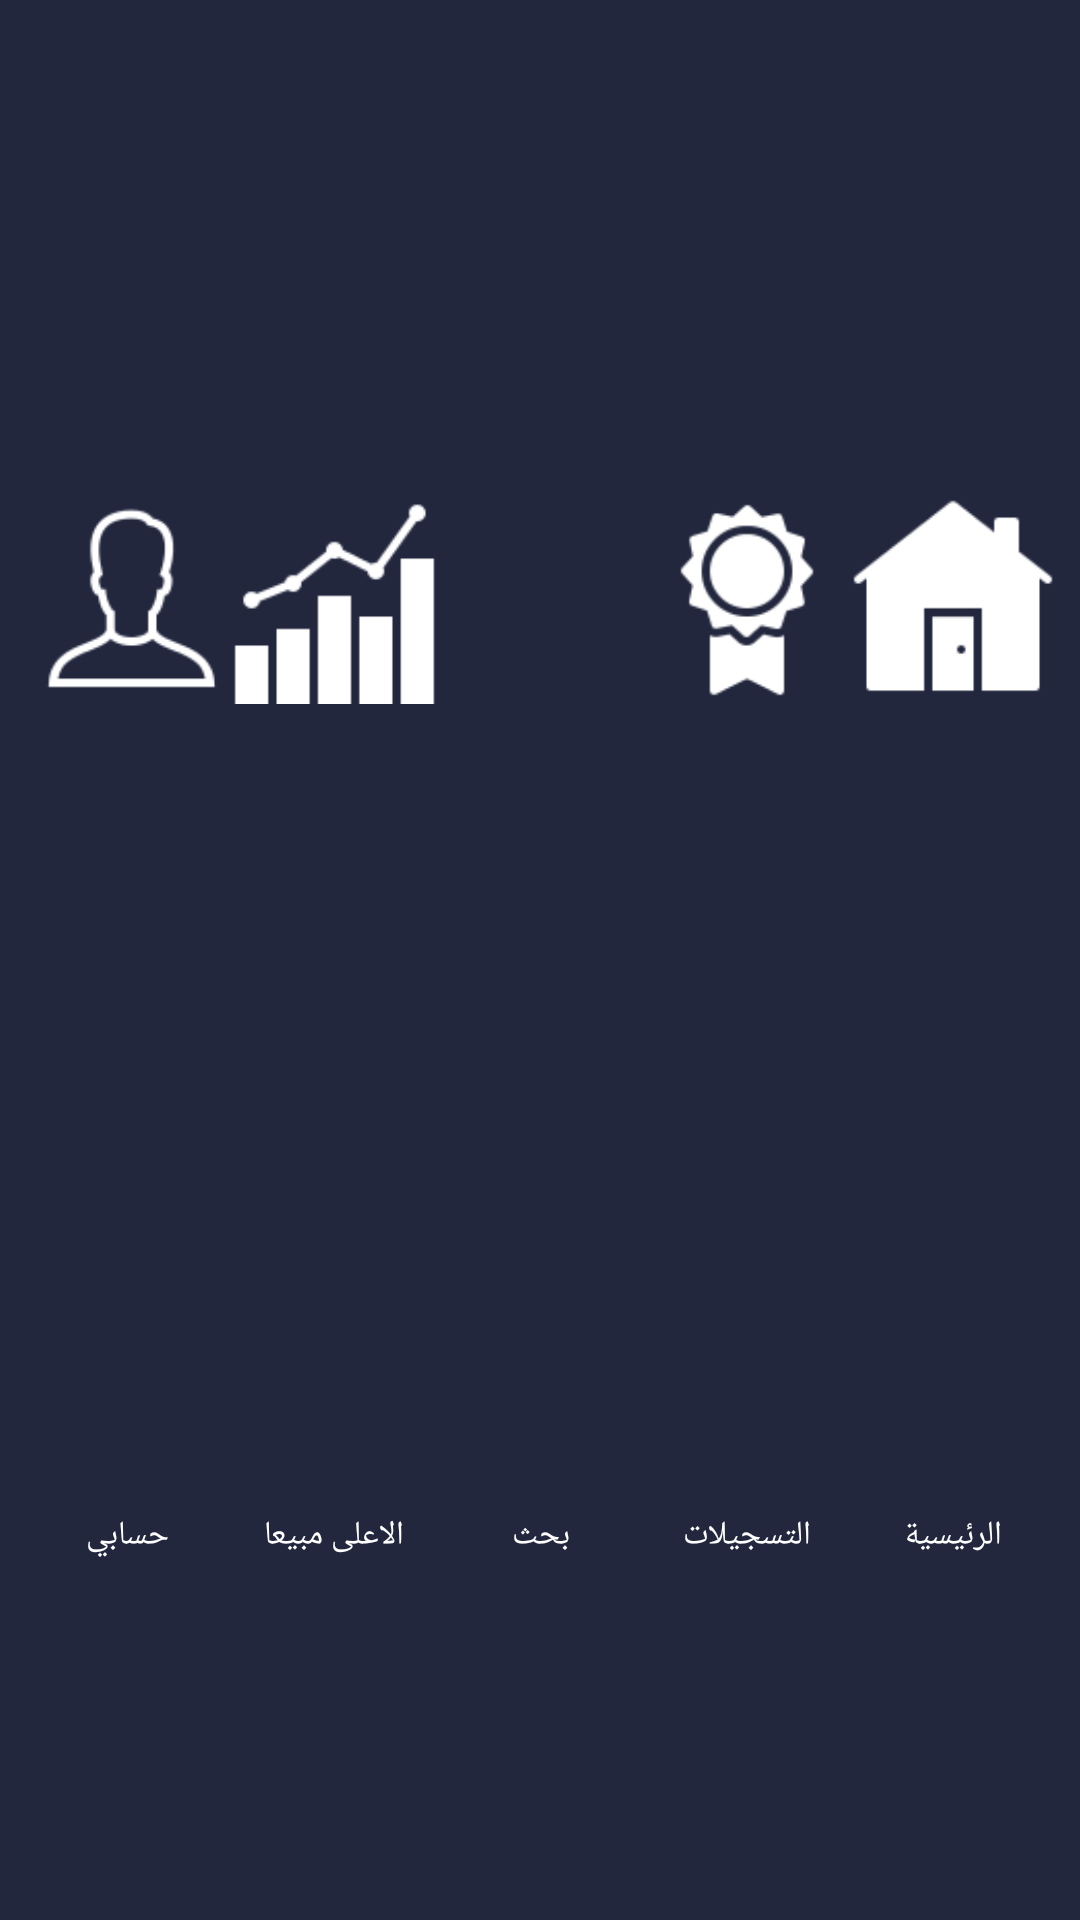

Icons on this 1080 x 1920 Android screen, each with its box as (x1, y1, x2, y2):
home: (853, 500, 1053, 691)
prize: (680, 504, 814, 696)
stat: (234, 504, 435, 704)
user: (48, 509, 215, 688)
